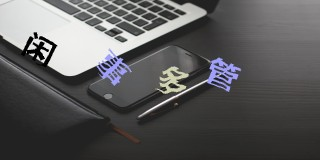事: (96, 48, 131, 86)
多: (156, 64, 190, 95)
管: (206, 53, 241, 92)
闲: (22, 31, 57, 69)
